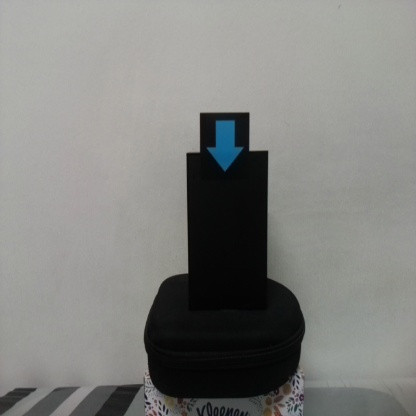id_2: (200, 113, 251, 180)
